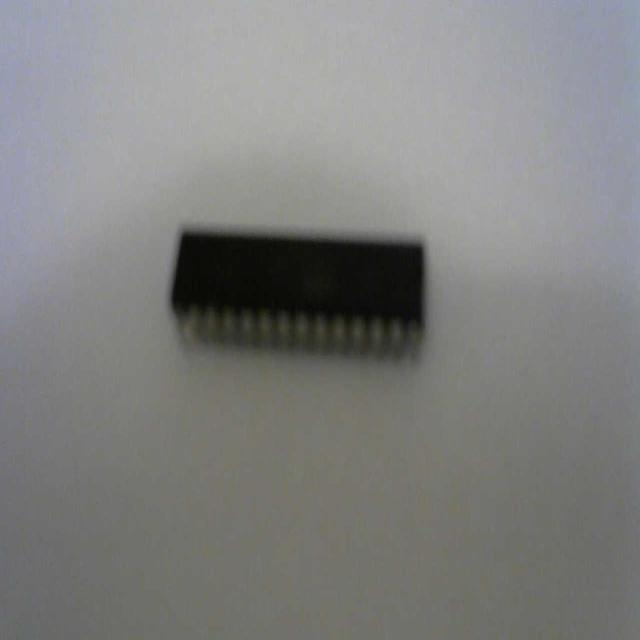atmega: (168, 221, 428, 367)
